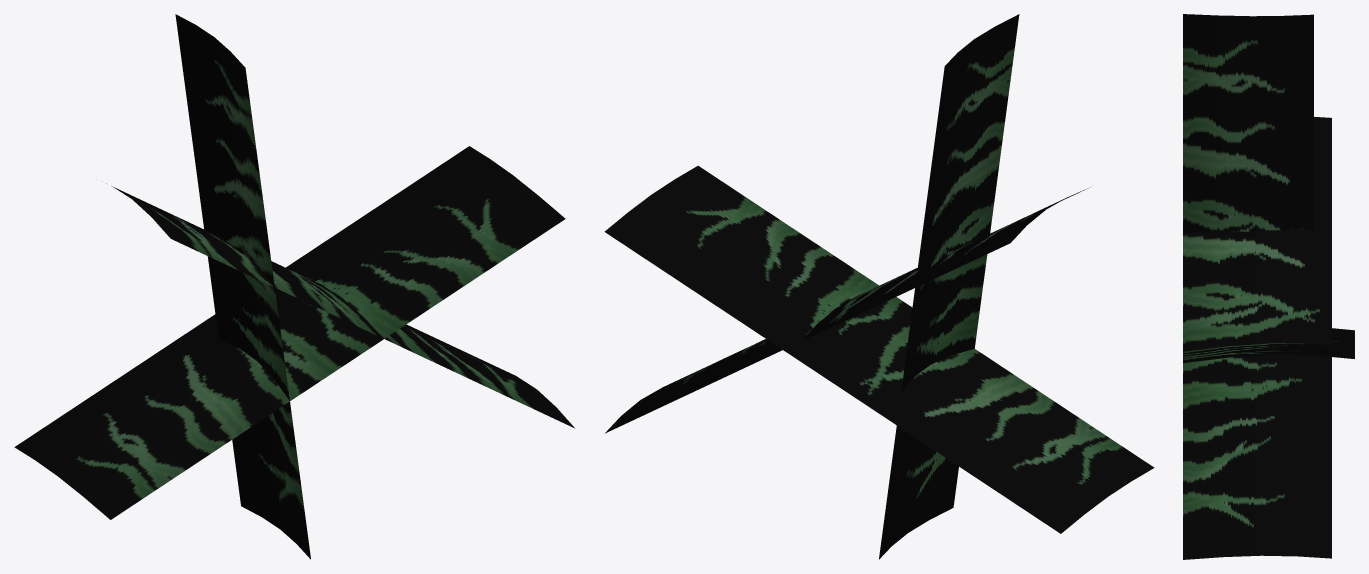
File: Tuft_Woodland.glb
The picture shows the model from 3 angles, left to right: view 1: azimuth 30°, elevation 25°; view 2: azimuth 150°, elevation 25°; view 3: azimuth 270°, elevation 25°; orthographic projection. The views are drawn at different scales.
Visible parts, largest first — view 1: Tuft_Woodland; view 2: Tuft_Woodland; view 3: Tuft_Woodland.
Boxes of the visible parts, box(x1,y1,x2,y2) form: Tuft_Woodland: box(14, 14, 574, 559); Tuft_Woodland: box(604, 14, 1154, 559); Tuft_Woodland: box(1183, 14, 1354, 559).
Bounding box in the file's own units: 0.5303 × 0.5461 × 0.1845.
1 material, 1 textured.
